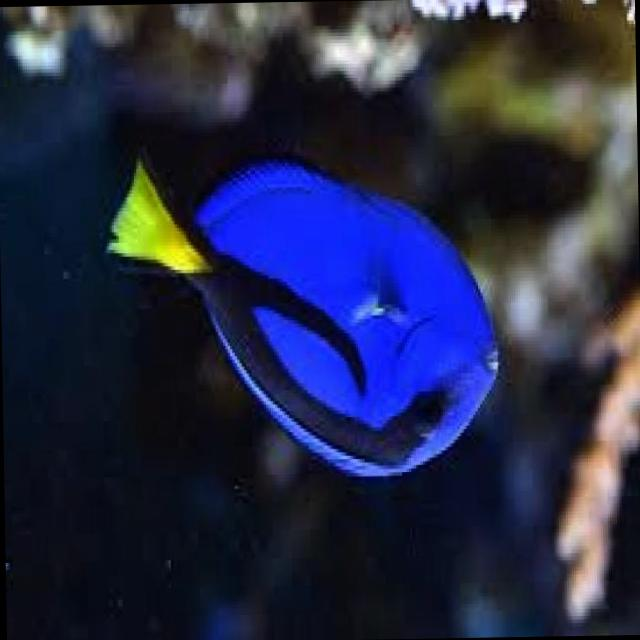BlueTang: (87, 106, 514, 522)
